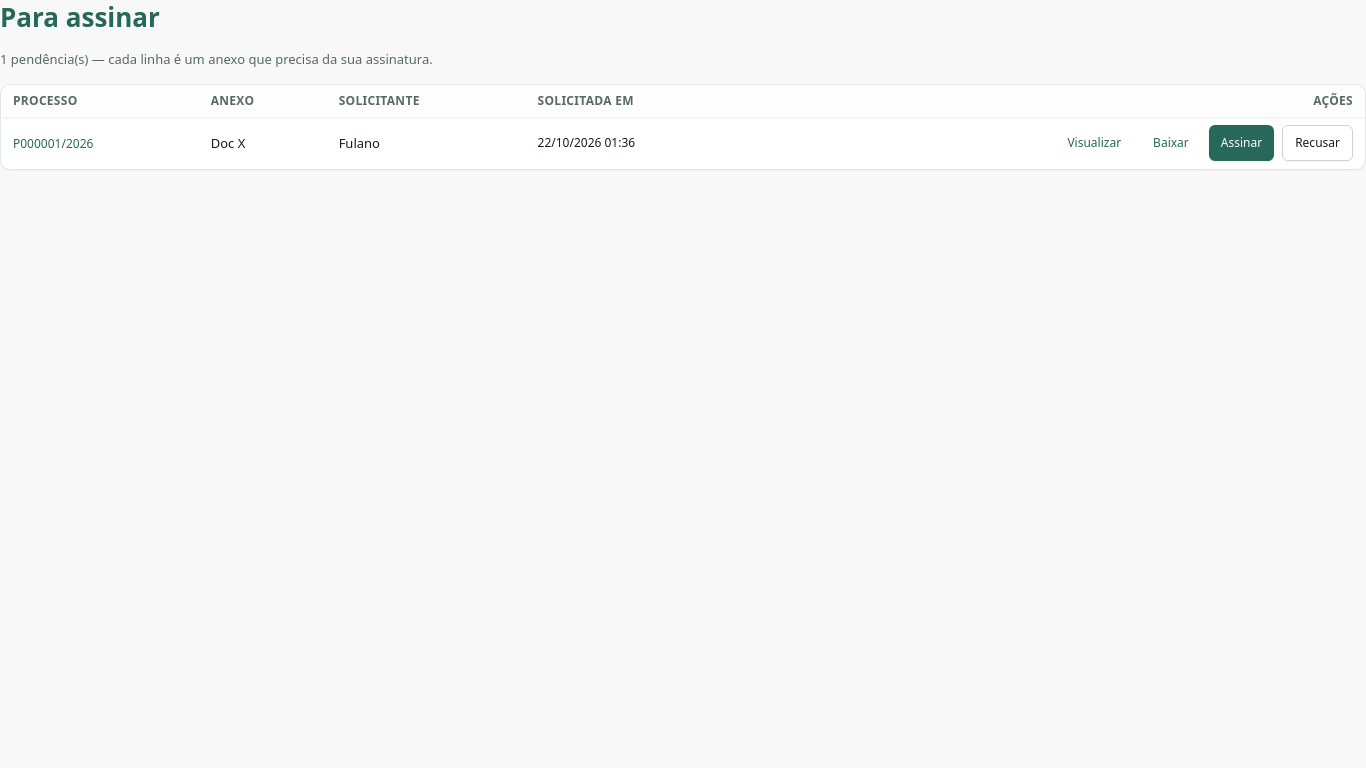
it: ParaAssinar — tratamento de erro do assinar › 429 (throttle) renderiza a mensagem de muitas tentativas
Check: the text "Doc X" is shown, box [199,117,327,169]
Click the button "Assinar" at point(1242, 143), box [1209,125,1274,161]
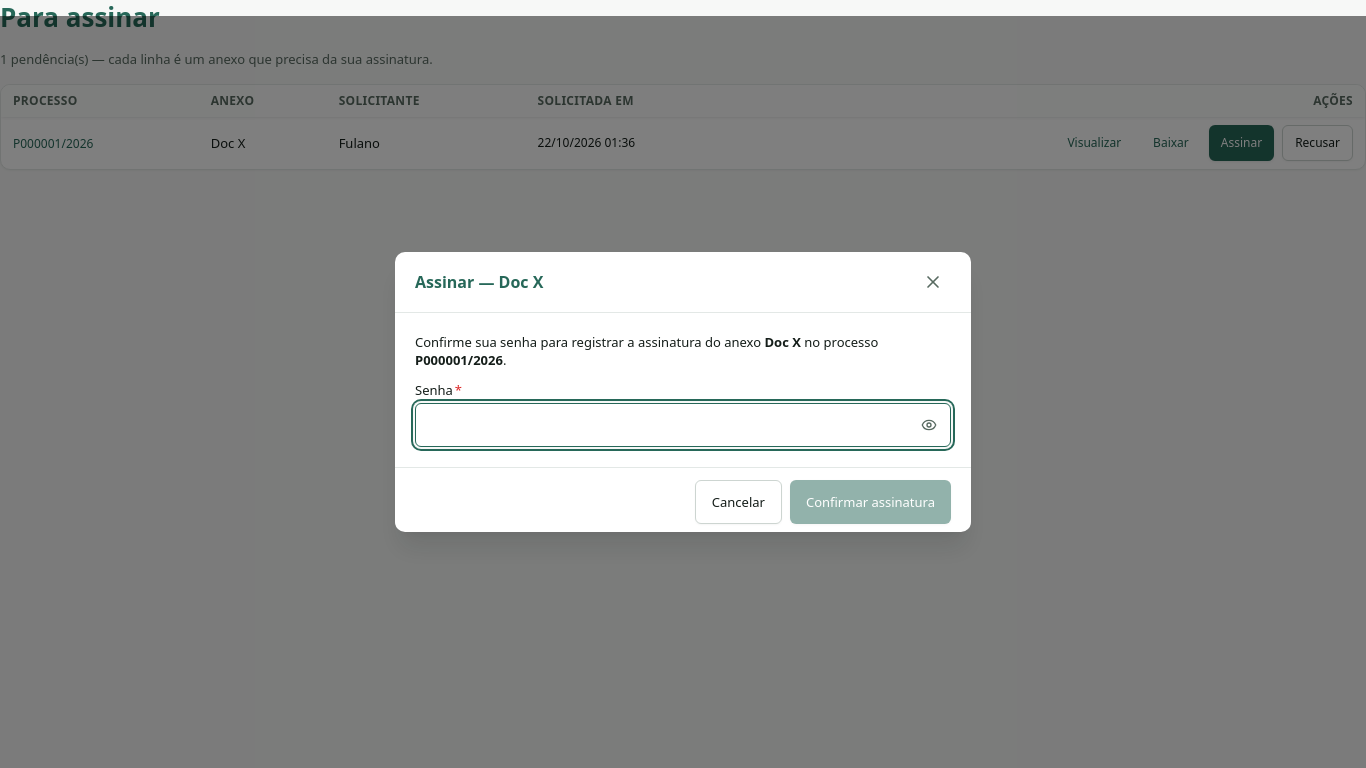
Type "qualquer-coisa" into the password field labelled "Senha*" at point(683, 425), box [415,403,951,447]
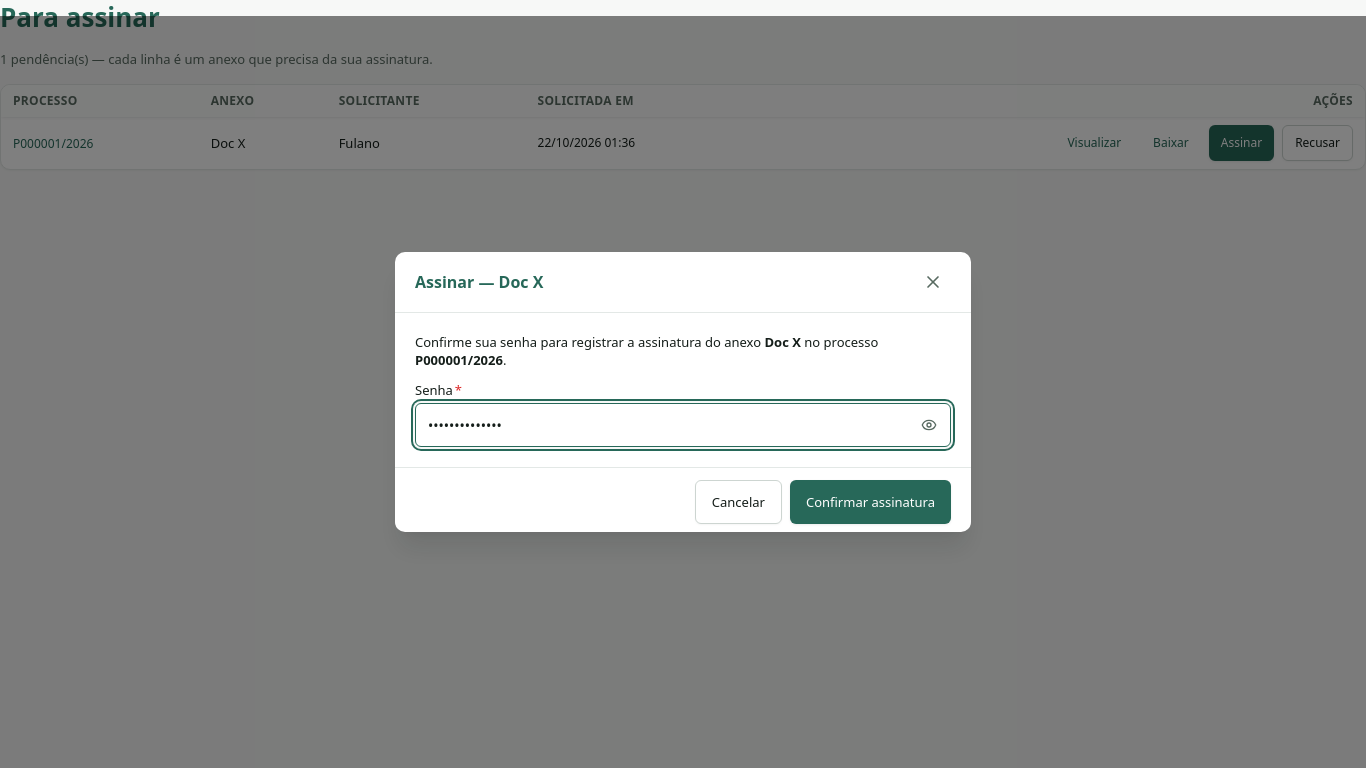
Click the button "Confirmar assinatura" at point(870, 502), box [790,480,951,524]
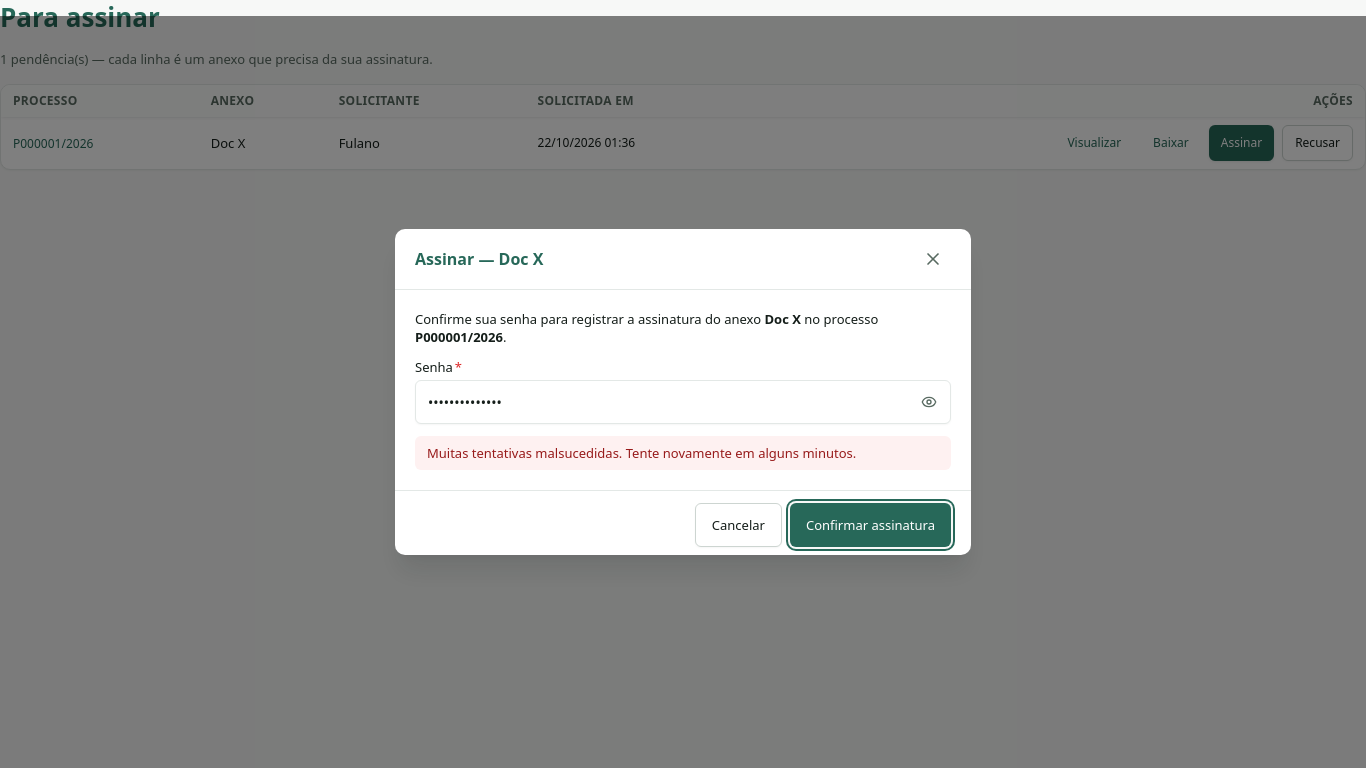
Check: the message shows "Muitas tentativas", box [427,444,856,462]
